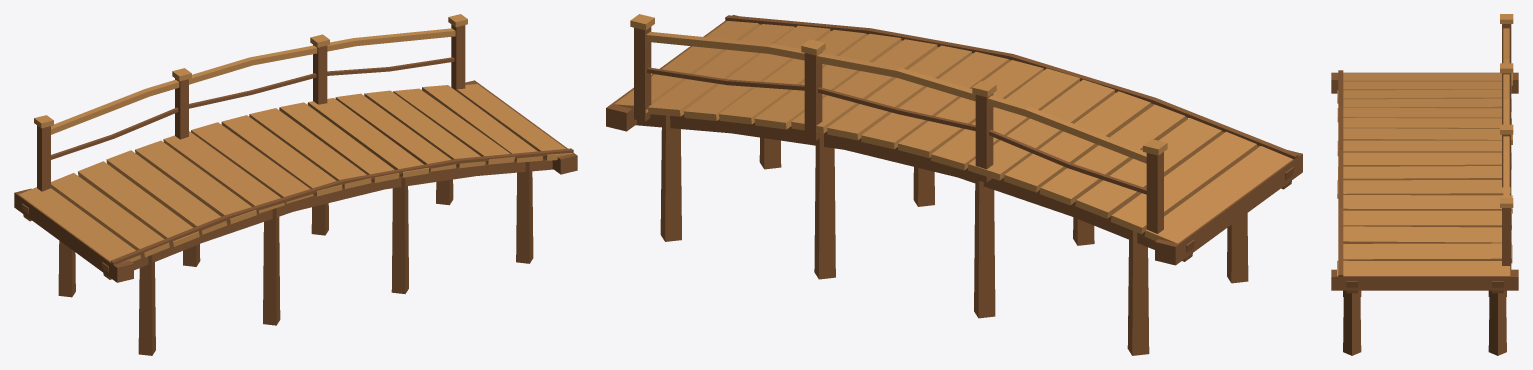
File: BRG_River_Lagoon_East.fbx
3 renders of one model, left to right at view 1: azimuth 30°, elevation 25°; view 2: azimuth 150°, elevation 25°; view 3: azimuth 270°, elevation 25°, orthographic. The views are drawn at different scales.
Visible parts, largest first — view 1: BRG_River_Lagoon_East; view 2: BRG_River_Lagoon_East; view 3: BRG_River_Lagoon_East.
Boxes of the visible parts, x1=… form: BRG_River_Lagoon_East: x1=14, y1=14, x2=577, y2=355; BRG_River_Lagoon_East: x1=606, y1=14, x2=1302, y2=355; BRG_River_Lagoon_East: x1=1331, y1=14, x2=1518, y2=355.
Bounding box in the file's own units: 7.73 × 3.02 × 2.98.
